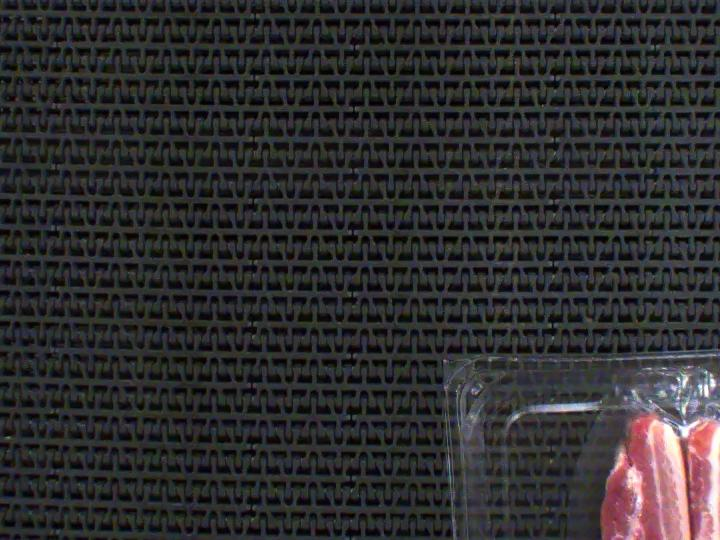unsealed: (570, 372, 720, 534)
